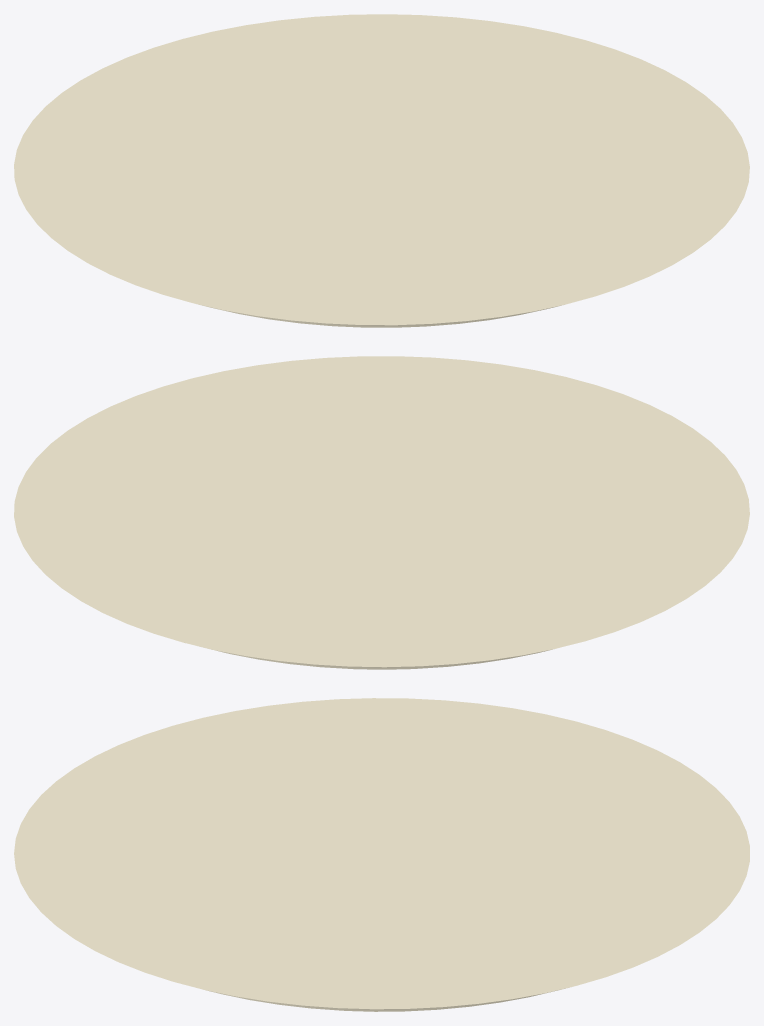
Rendered from fresnellensgl.gltf.
The picture shows the model from 3 angles, top to bottom: view 1: azimuth 30°, elevation 25°; view 2: azimuth 150°, elevation 25°; view 3: azimuth 270°, elevation 25°; orthographic projection.
Visible parts, largest first — view 1: mesh0_meshnode_0, mesh1_meshnode_1; view 2: mesh0_meshnode_0, mesh1_meshnode_1; view 3: mesh0_meshnode_0, mesh1_meshnode_1.
Boxes of the visible parts, left/top/right/bottom form: mesh0_meshnode_0: left=14, top=14, right=749, bottom=325; mesh1_meshnode_1: left=199, top=304, right=561, bottom=327; mesh0_meshnode_0: left=14, top=356, right=749, bottom=667; mesh1_meshnode_1: left=211, top=649, right=552, bottom=669; mesh0_meshnode_0: left=14, top=698, right=749, bottom=1009; mesh1_meshnode_1: left=206, top=988, right=565, bottom=1011.
Size of the model in its own units: 0.1016 by 0.00634 by 0.1015.
